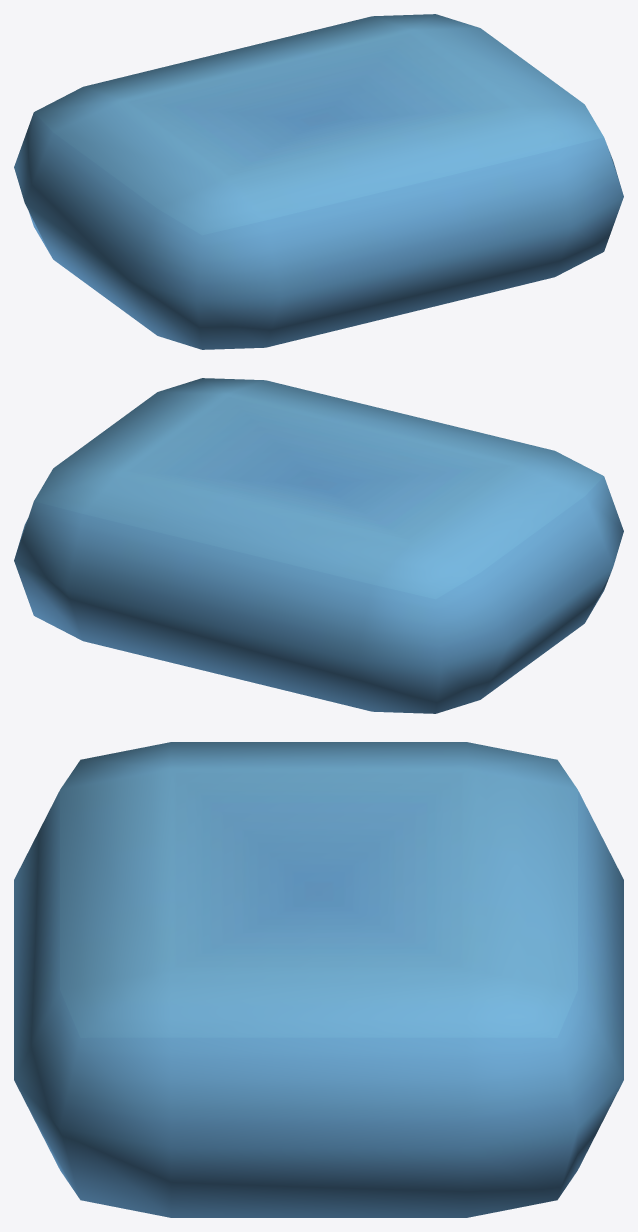
Rendered from kaykit-furniture-bits-pillow-b.glb.
3 renders of one model, top to bottom at view 1: azimuth 30°, elevation 25°; view 2: azimuth 150°, elevation 25°; view 3: azimuth 270°, elevation 25°, orthographic. The views are drawn at different scales.
Parts seen in each view (by area): view 1: pillow_B; view 2: pillow_B; view 3: pillow_B.
Boxes of the visible parts, x1=… form: pillow_B: x1=14, y1=14, x2=623, y2=349; pillow_B: x1=14, y1=378, x2=623, y2=713; pillow_B: x1=14, y1=742, x2=623, y2=1217.
Bounding box in the file's own units: 0.65 × 0.2 × 0.5.
1 material, 1 textured.
